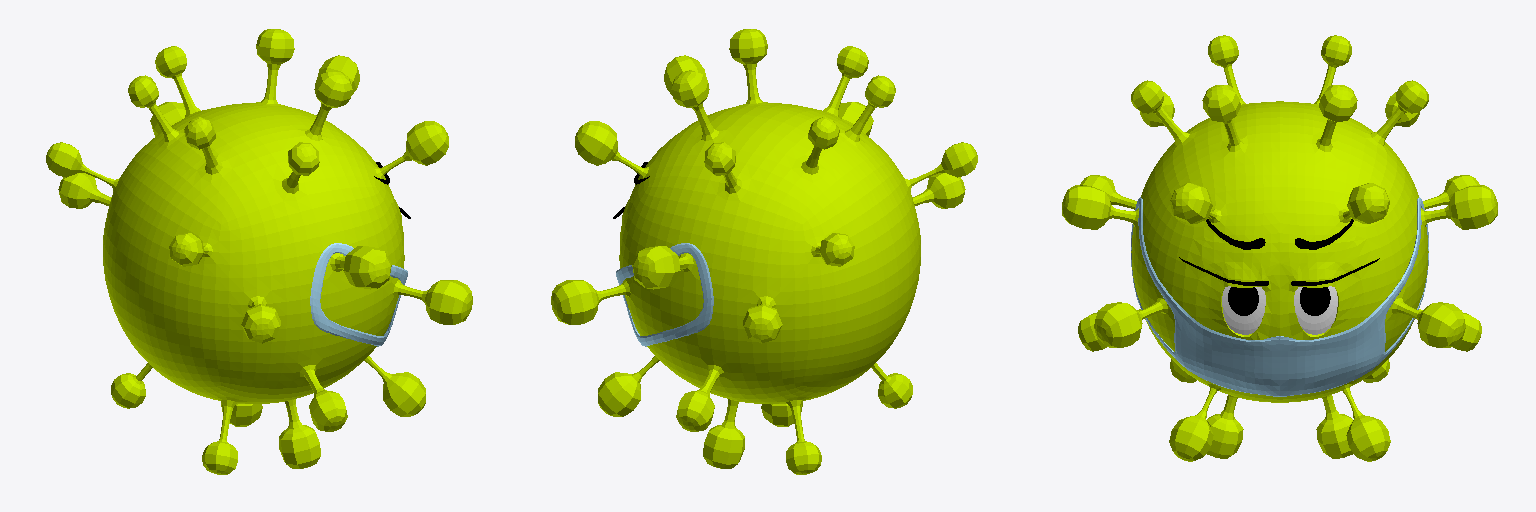
3 renders of one model, left to right at view 1: azimuth 30°, elevation 25°; view 2: azimuth 150°, elevation 25°; view 3: azimuth 270°, elevation 25°, orthographic.
Parts seen in each view (by area): view 1: Cube.002_Cube.005; view 2: Cube.002_Cube.005; view 3: Cube.002_Cube.005.
Part boxes in pixels (left/top/right/bottom): Cube.002_Cube.005: left=46, top=29, right=472, bottom=474; Cube.002_Cube.005: left=551, top=29, right=977, bottom=474; Cube.002_Cube.005: left=1062, top=35, right=1497, bottom=461.
Size of the model in its own units: 1.89 by 2.38 by 2.44.
Materials: 1 (1 with a texture image).